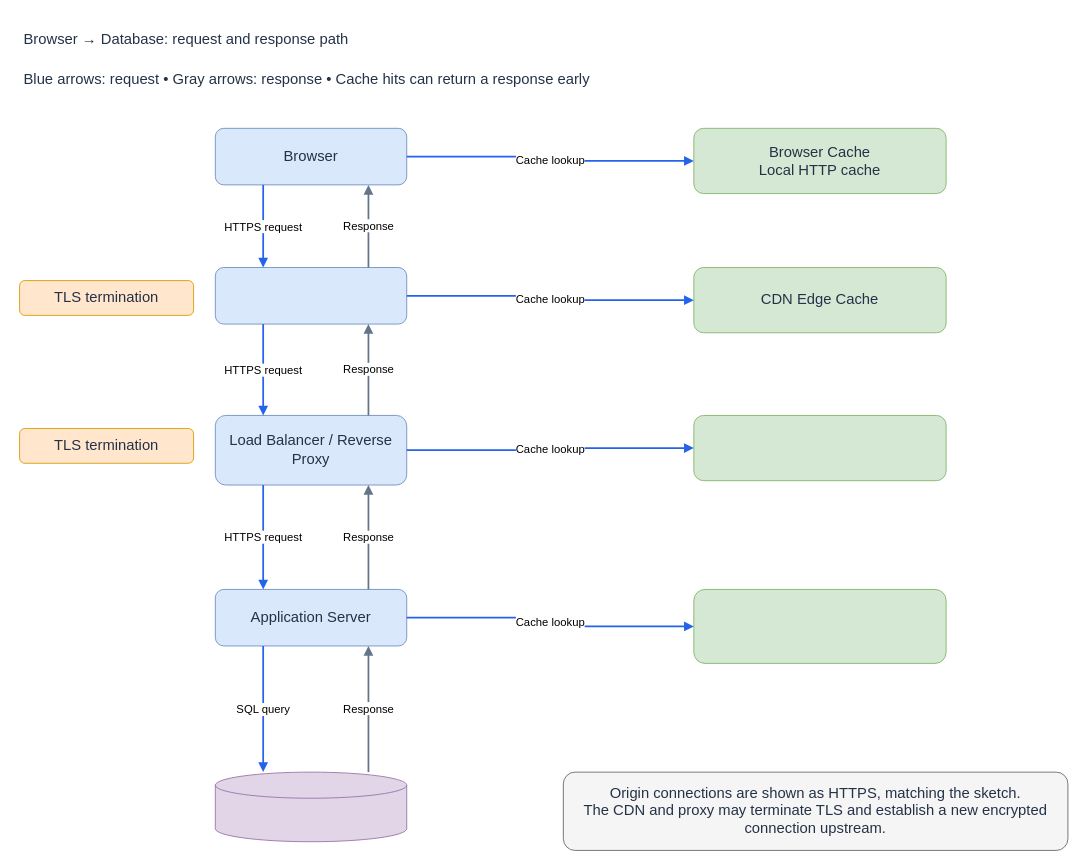
Some shapes in this 1083 by 866 pixel diagram are drawn without their labels. Here are the shapes that lost their labels. From the top down, the centre of each, then its label:
At (x=310, y=295): "CDN".
At (x=819, y=448): "Proxy Cache".
At (x=819, y=626): "Application Cache In-memory / Redis".
At (x=310, y=806): "Database".
